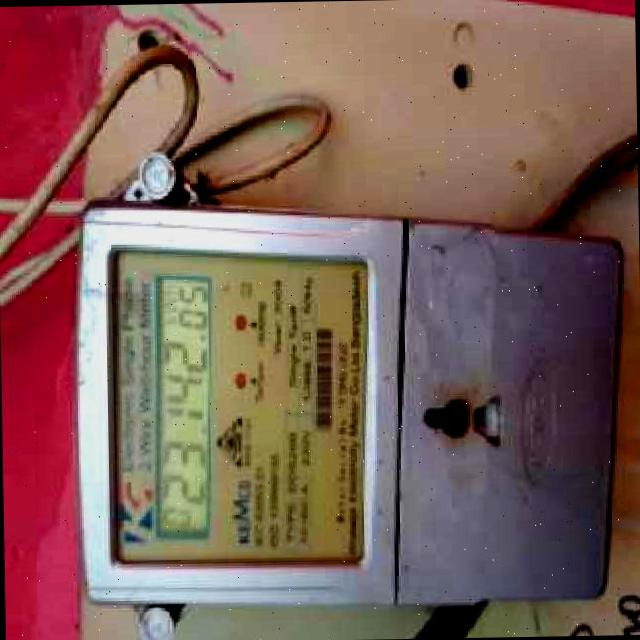LCD: (145, 272, 220, 541)
